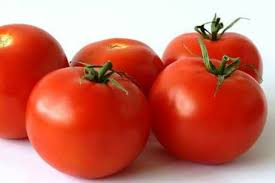tomato: (25, 66, 149, 176)
